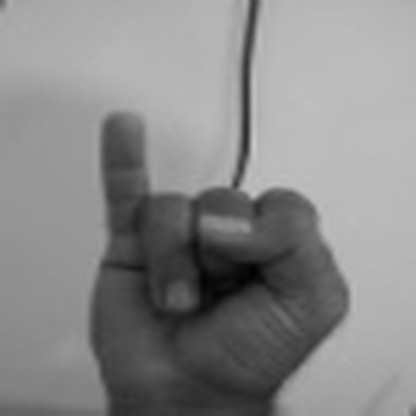i: (83, 92, 351, 400)
